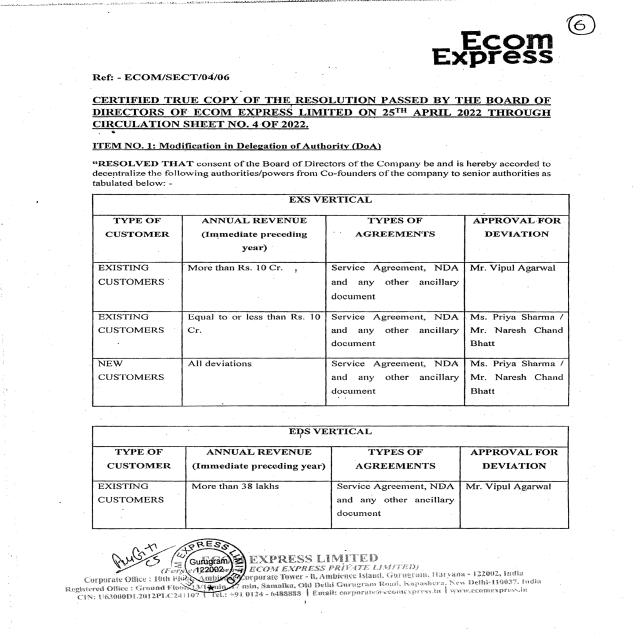page-number: (551, 0, 637, 84)
